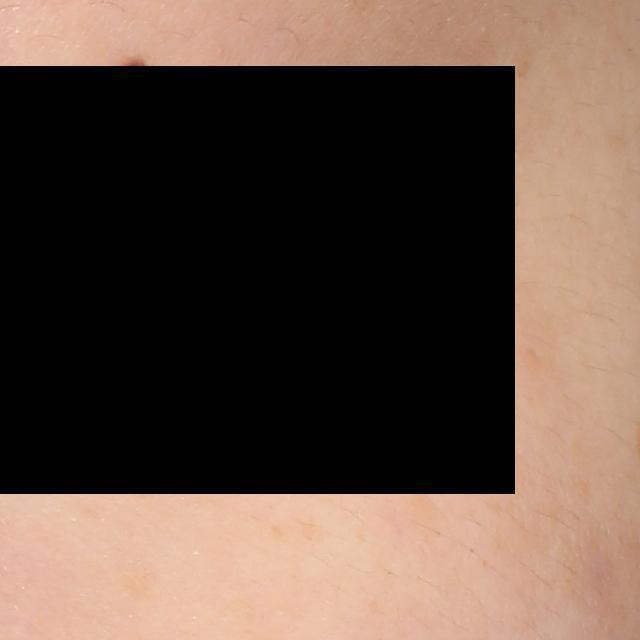melasma: (119, 553, 174, 599)
